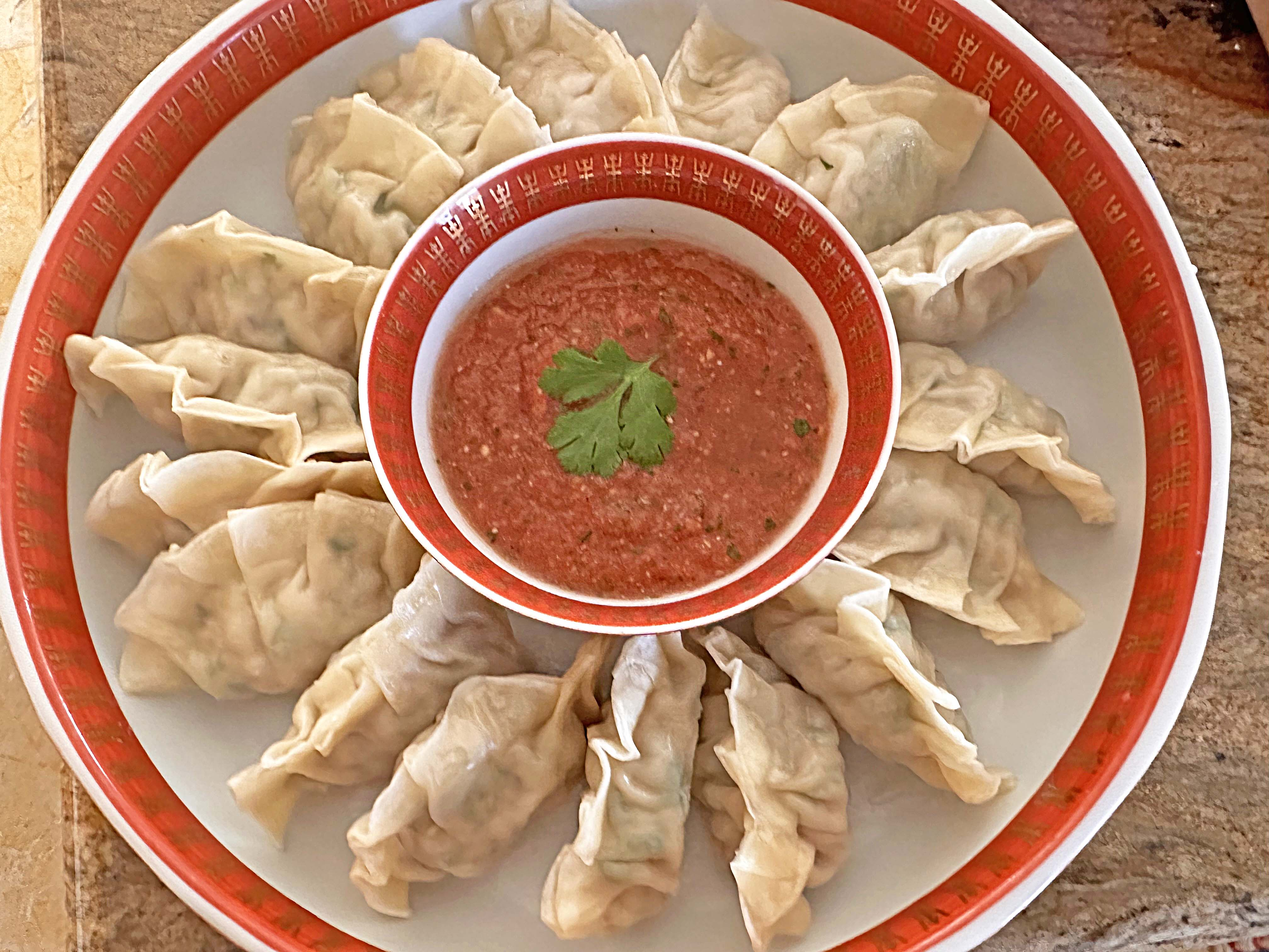momo: (343, 630, 618, 924), (106, 492, 424, 696), (765, 556, 1005, 803), (697, 628, 844, 952), (547, 628, 697, 943), (66, 317, 366, 462), (888, 336, 1120, 522), (756, 72, 1001, 239), (867, 452, 1084, 635), (111, 211, 379, 353), (863, 196, 1093, 336), (473, 0, 680, 147), (366, 34, 556, 175), (283, 98, 454, 236), (665, 9, 793, 156)
